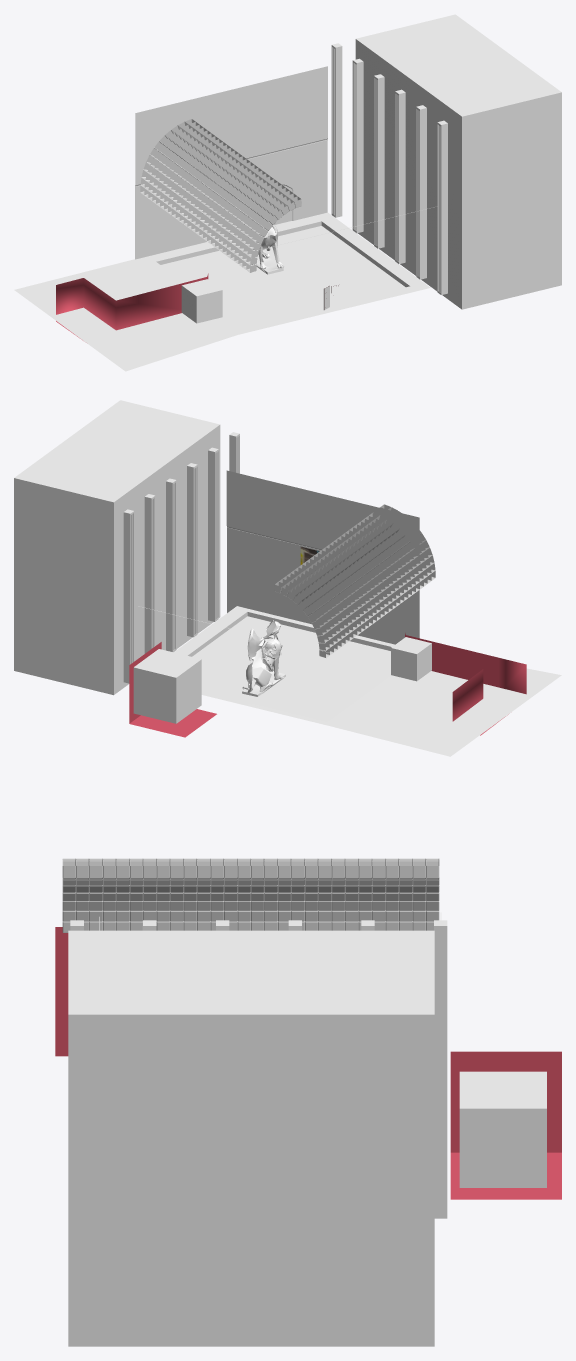
The model's file is about3_013.glb.
3 renders of one model, top to bottom at view 1: azimuth 30°, elevation 25°; view 2: azimuth 150°, elevation 25°; view 3: azimuth 270°, elevation 25°, orthographic. The views are drawn at different scales.
Visible parts, largest first — view 1: LinkProjects, Plane.005, Plane.006, curved ceiling, Cube.002, Plane.011, LinkPeople, Sphinx; view 2: LinkProjects, Plane.005, Rear wall, curved ceiling, Cube.002, LinkBibliography, Plane.011, Sphinx, Cube.001, LinkPeople; view 3: LinkProjects, curved ceiling, LinkBibliography, Cube.001, Cube.002, Plane.011.
Part boxes in pixels (x1,y1,x2,y2): LinkProjects: (355, 14, 561, 309); Plane.005: (14, 212, 430, 371); Plane.006: (135, 66, 327, 259); curved ceiling: (140, 119, 301, 272); Cube.002: (331, 43, 447, 294); Plane.011: (56, 273, 208, 340); LinkPeople: (181, 279, 222, 323); Sphinx: (256, 225, 283, 274); LinkProjects: (14, 400, 220, 695); Plane.005: (174, 606, 561, 756); Rear wall: (226, 470, 419, 644); curved ceiling: (274, 504, 435, 657); Cube.002: (123, 432, 239, 683); LinkBibliography: (133, 649, 201, 723); Plane.011: (405, 633, 526, 735); Sphinx: (242, 620, 285, 696); Cube.001: (129, 642, 216, 737); LinkPeople: (391, 637, 431, 681); LinkProjects: (68, 930, 434, 1346); curved ceiling: (62, 858, 439, 932); LinkBibliography: (459, 1071, 546, 1187); Cube.001: (450, 1051, 561, 1199); Cube.002: (70, 920, 447, 1218); Plane.011: (55, 927, 68, 1056).
Bounding box in the file's own units: 130 × 54.4 × 81.41.
Materials: 9 (1 with a texture image).
